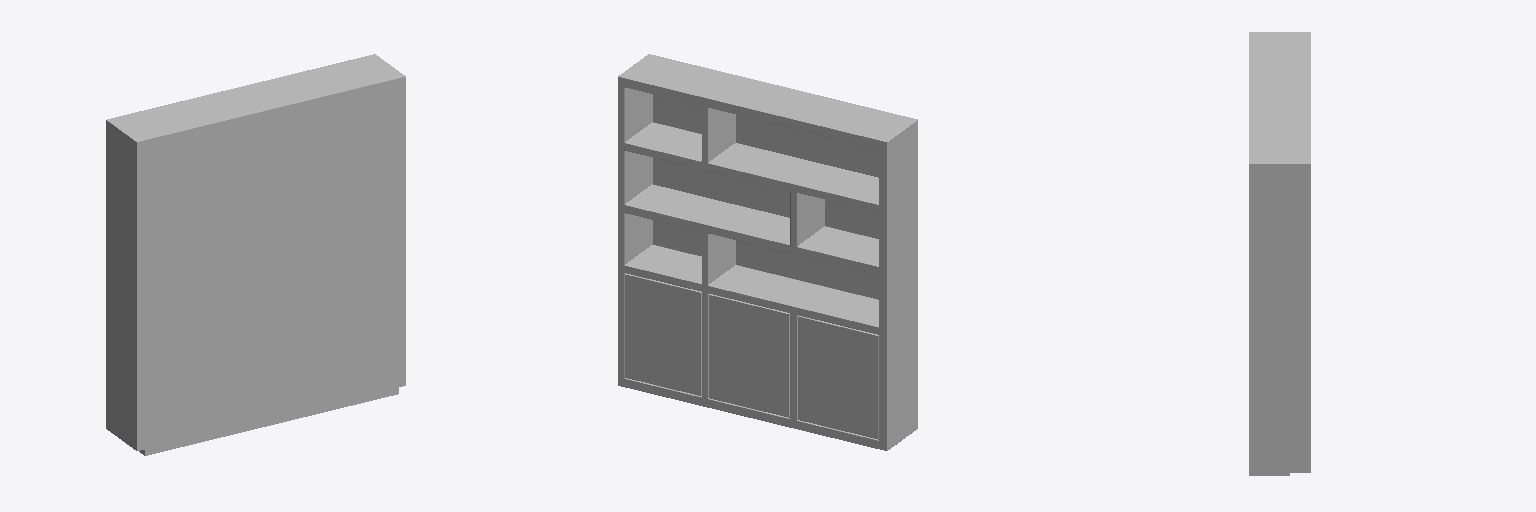
Rendered from closet_01_01.obj.
3 views of the same model, side by side, from view 1: azimuth 30°, elevation 25°; view 2: azimuth 150°, elevation 25°; view 3: azimuth 270°, elevation 25° (orthographic).
Visible parts, largest first — view 1: closet_Plane.000; view 2: closet_Plane.000; view 3: closet_Plane.000.
Part boxes in pixels (x1,y1,x2,y2): closet_Plane.000: (106,54,405,455); closet_Plane.000: (618,54,917,450); closet_Plane.000: (1249,32,1310,475).
Size of the model in its own units: 3.26 by 3.65 by 0.6481.